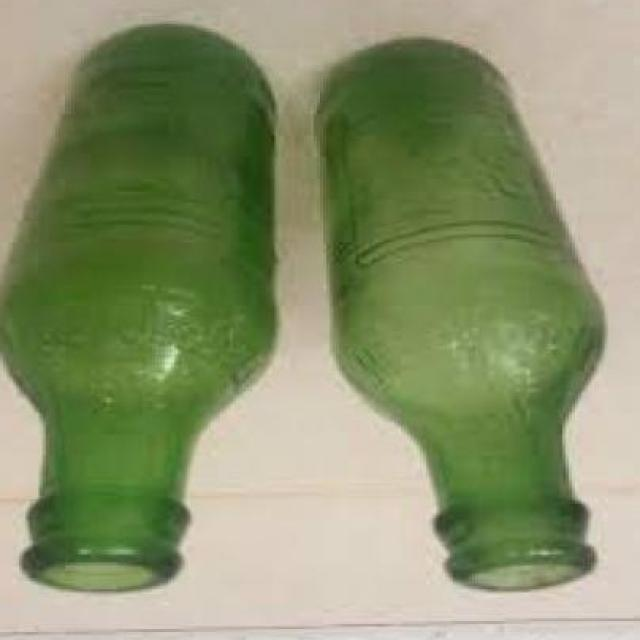kaca: (310, 40, 600, 594), (0, 27, 271, 594)
